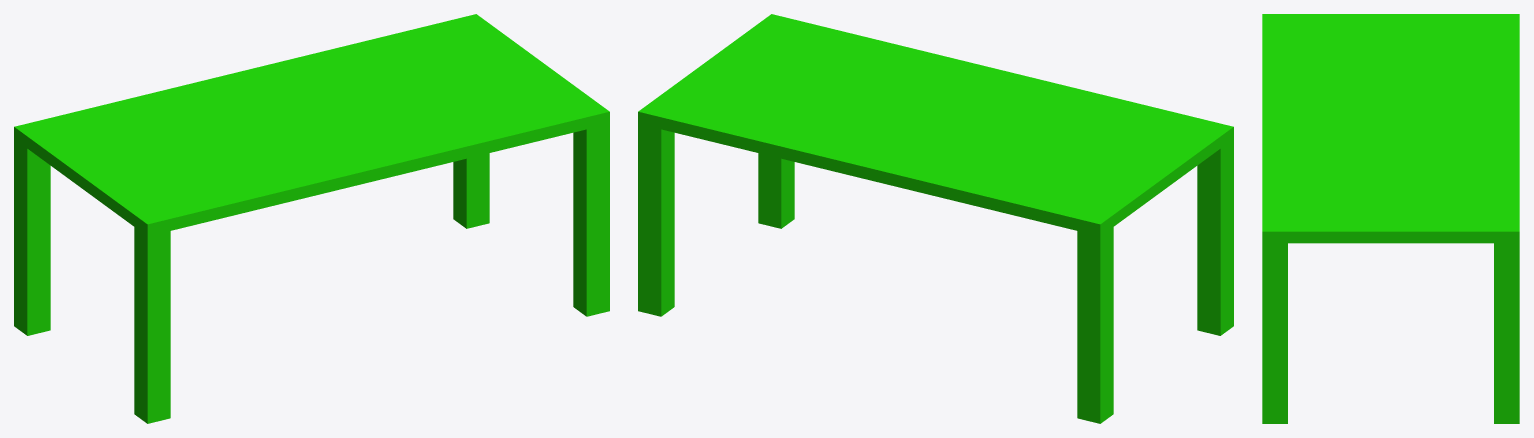
File: table.glb
3 views of the same model, side by side, from view 1: azimuth 30°, elevation 25°; view 2: azimuth 150°, elevation 25°; view 3: azimuth 270°, elevation 25° (orthographic). The views are drawn at different scales.
Visible parts, largest first — view 1: Top, Legs.004, Legs.001, Legs.003, Legs.002; view 2: Top, Legs.003, Legs.002, Legs.004, Legs.001; view 3: Top, Legs.001, Legs.002.
Boxes of the visible parts, x1=… form: Top: x1=14, y1=14, x2=609, y2=236; Legs.004: x1=134, y1=227, x2=170, y2=423; Legs.001: x1=573, y1=124, x2=609, y2=316; Legs.003: x1=14, y1=139, x2=50, y2=335; Legs.002: x1=453, y1=153, x2=489, y2=228; Top: x1=638, y1=14, x2=1233, y2=236; Legs.003: x1=1077, y1=227, x2=1113, y2=423; Legs.002: x1=638, y1=124, x2=674, y2=316; Legs.004: x1=1197, y1=139, x2=1233, y2=335; Legs.001: x1=758, y1=153, x2=794, y2=228; Top: x1=1262, y1=14, x2=1519, y2=243; Legs.001: x1=1262, y1=243, x2=1287, y2=423; Legs.002: x1=1494, y1=243, x2=1519, y2=423.
Size of the model in its own units: 2 by 0.8249 by 1.
